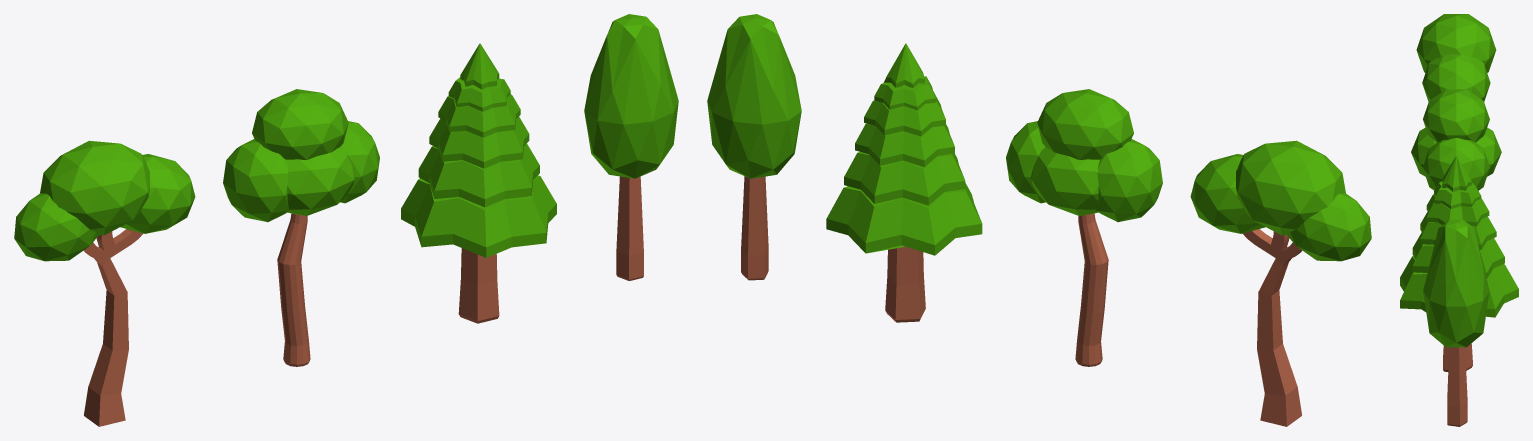
The model's file is arvore pack.fbx.
The picture shows the model from 3 angles, left to right: view 1: azimuth 30°, elevation 25°; view 2: azimuth 150°, elevation 25°; view 3: azimuth 270°, elevation 25°; orthographic projection. The views are drawn at different scales.
Visible parts, largest first — view 1: Circle.005, Icosphere.002, Icosphere, Icosphere.001, Cube, Cylinder, Cylinder.002, Cylinder.001; view 2: Circle.005, Icosphere.002, Icosphere, Icosphere.001, Cube, Cylinder, Cylinder.001, Cylinder.002; view 3: Circle.005, Icosphere.001, Icosphere.002, Icosphere, Cylinder.002, Cylinder.001.
Boxes of the visible parts, box(x1,y1,x2,y2) form: Circle.005: box(401, 43, 556, 257); Icosphere.002: box(223, 89, 379, 222); Icosphere: box(14, 140, 195, 261); Icosphere.001: box(584, 14, 678, 178); Cube: box(83, 229, 143, 426); Cylinder: box(277, 213, 310, 366); Cylinder.002: box(616, 176, 643, 280); Cylinder.001: box(458, 248, 499, 323); Circle.005: box(826, 43, 982, 255); Icosphere.002: box(1006, 89, 1162, 222); Icosphere: box(1190, 140, 1371, 261); Icosphere.001: box(707, 14, 801, 178); Cube: box(1242, 229, 1302, 426); Cylinder: box(1075, 213, 1108, 366); Cylinder.001: box(885, 246, 925, 322); Cylinder.002: box(741, 176, 768, 280); Circle.005: box(1400, 156, 1518, 317); Icosphere.001: box(1423, 219, 1489, 347); Icosphere.002: box(1411, 89, 1501, 190); Icosphere: box(1416, 14, 1496, 101); Cylinder.002: box(1447, 347, 1467, 426); Cylinder.001: box(1443, 343, 1472, 371).
Size of the model in its own units: 1977 by 820 by 400.
